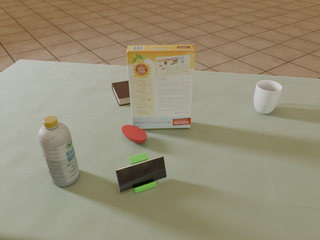book: (112, 81, 131, 106)
bottle: (38, 116, 79, 186)
box: (127, 45, 195, 129)
cup: (254, 80, 282, 114)
mouse: (122, 125, 147, 143)
phone: (115, 156, 166, 192)
